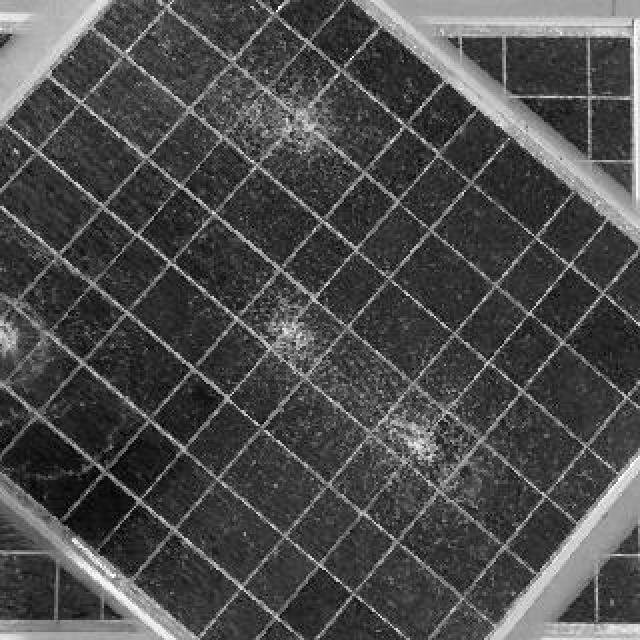Physical-damage: (237, 285, 561, 547), (118, 33, 400, 202), (8, 269, 111, 511)
